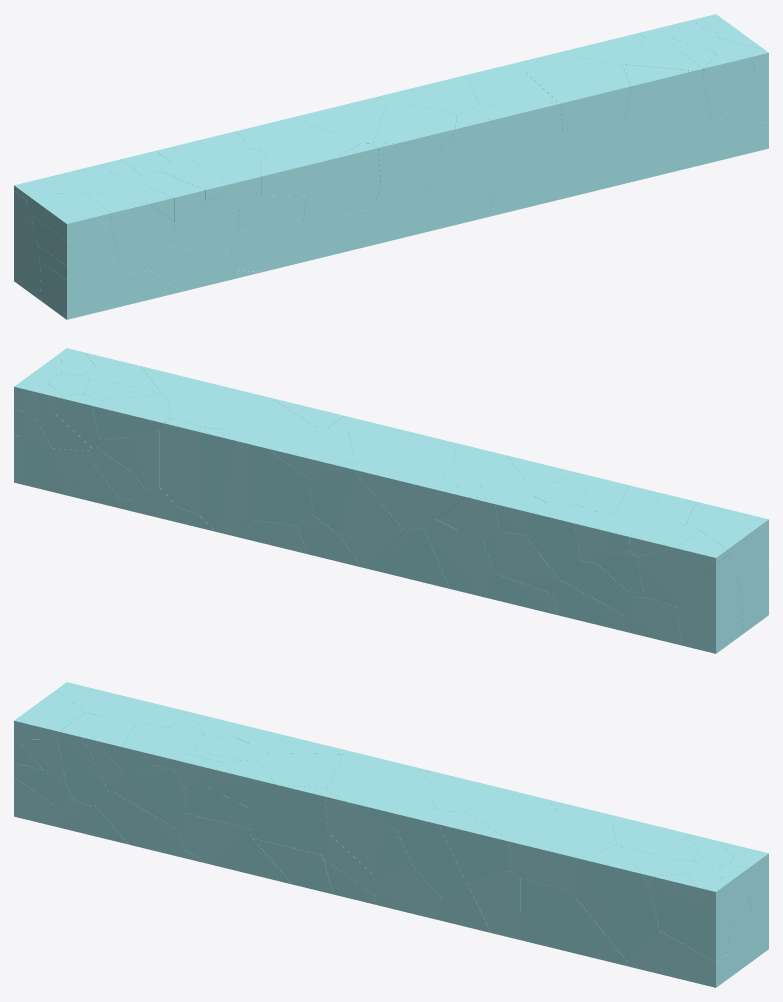
File: Glass8.fbx
3 views of the same model, one above another, from view 1: azimuth 30°, elevation 25°; view 2: azimuth 150°, elevation 25°; view 3: azimuth 330°, elevation 25° (orthographic).
Parts seen in each view (by area): view 1: Cube_cell.161, Cube_cell.163, Cube_cell.101, Cube_cell.160, Cube_cell.151, Cube_cell.179, Cube_cell.137, Cube_cell.190, Cube_cell.121, Cube_cell.111, Cube_cell.183, Cube_cell.106 (+44 smaller); view 2: Cube_cell.180, Cube_cell.146, Cube_cell.112, Cube_cell.188, Cube_cell.154, Cube_cell.186, Cube_cell.163, Cube_cell.140, Cube_cell.133, Cube_cell.176, Cube_cell.156, Cube_cell.168 (+46 smaller); view 3: Cube_cell.161, Cube_cell.163, Cube_cell.101, Cube_cell.160, Cube_cell.151, Cube_cell.111, Cube_cell.179, Cube_cell.137, Cube_cell.190, Cube_cell.183, Cube_cell.106, Cube_cell.100 (+47 smaller).
Part boxes in pixels (box(x1,y1,x2,y2)): Cube_cell.161: box(623, 65, 711, 164); Cube_cell.163: box(523, 56, 630, 134); Cube_cell.101: box(303, 143, 380, 224); Cube_cell.160: box(448, 108, 519, 192); Cube_cell.151: box(475, 102, 562, 166); Cube_cell.179: box(373, 101, 457, 147); Cube_cell.137: box(168, 195, 239, 253); Cube_cell.190: box(85, 191, 162, 273); Cube_cell.121: box(25, 193, 111, 241); Cube_cell.111: box(679, 119, 768, 170); Cube_cell.183: box(148, 246, 235, 291); Cube_cell.106: box(373, 143, 442, 202); Cube_cell.180: box(354, 447, 456, 530); Cube_cell.146: box(198, 427, 248, 535); Cube_cell.112: box(676, 555, 743, 653); Cube_cell.188: box(248, 447, 312, 525); Cube_cell.154: box(637, 530, 727, 606); Cube_cell.186: box(339, 475, 403, 570); Cube_cell.163: box(166, 382, 274, 429); Cube_cell.140: box(424, 519, 495, 596); Cube_cell.133: box(159, 418, 202, 514); Cube_cell.176: box(526, 502, 590, 580); Cube_cell.156: box(265, 428, 354, 478); Cube_cell.168: box(91, 395, 170, 439); Cube_cell.161: box(572, 845, 659, 960); Cube_cell.163: box(508, 811, 616, 890); Cube_cell.101: box(251, 785, 330, 854); Cube_cell.160: box(395, 808, 466, 897); Cube_cell.151: box(438, 812, 509, 884); Cube_cell.111: box(626, 931, 736, 987); Cube_cell.179: box(331, 777, 434, 828); Cube_cell.137: box(115, 765, 186, 829); Cube_cell.190: box(57, 712, 109, 806); Cube_cell.183: box(95, 792, 183, 857); Cube_cell.106: box(325, 793, 389, 873); Cube_cell.100: box(520, 878, 575, 946).
Size of the model in its own units: 1610 by 210 by 210.
